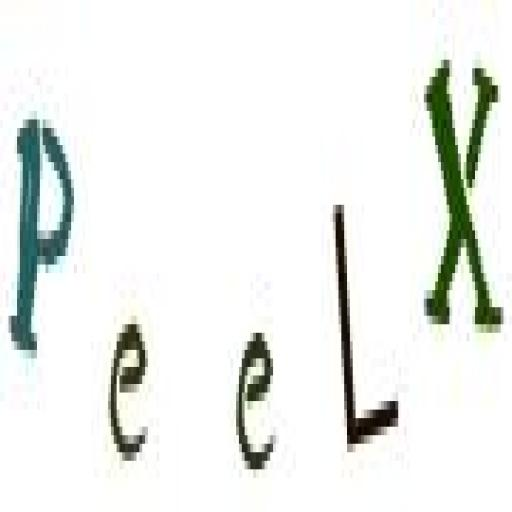L: (330, 184, 402, 462)
P: (9, 107, 77, 376)
X: (419, 49, 502, 354)
e: (110, 297, 152, 474), (234, 316, 280, 476)
